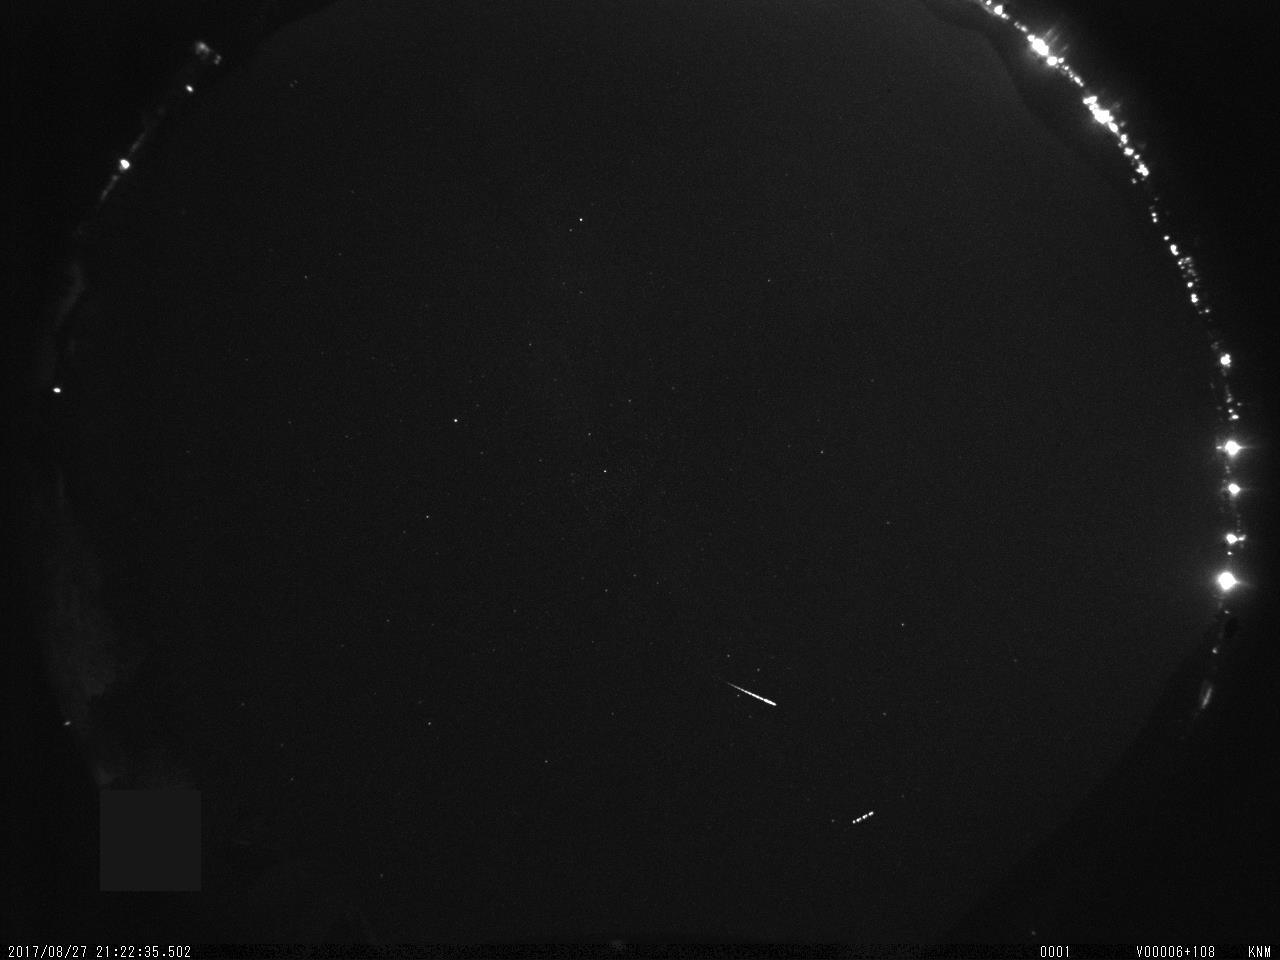meteor: (719, 675, 783, 709)
satelite: (846, 805, 881, 831)
